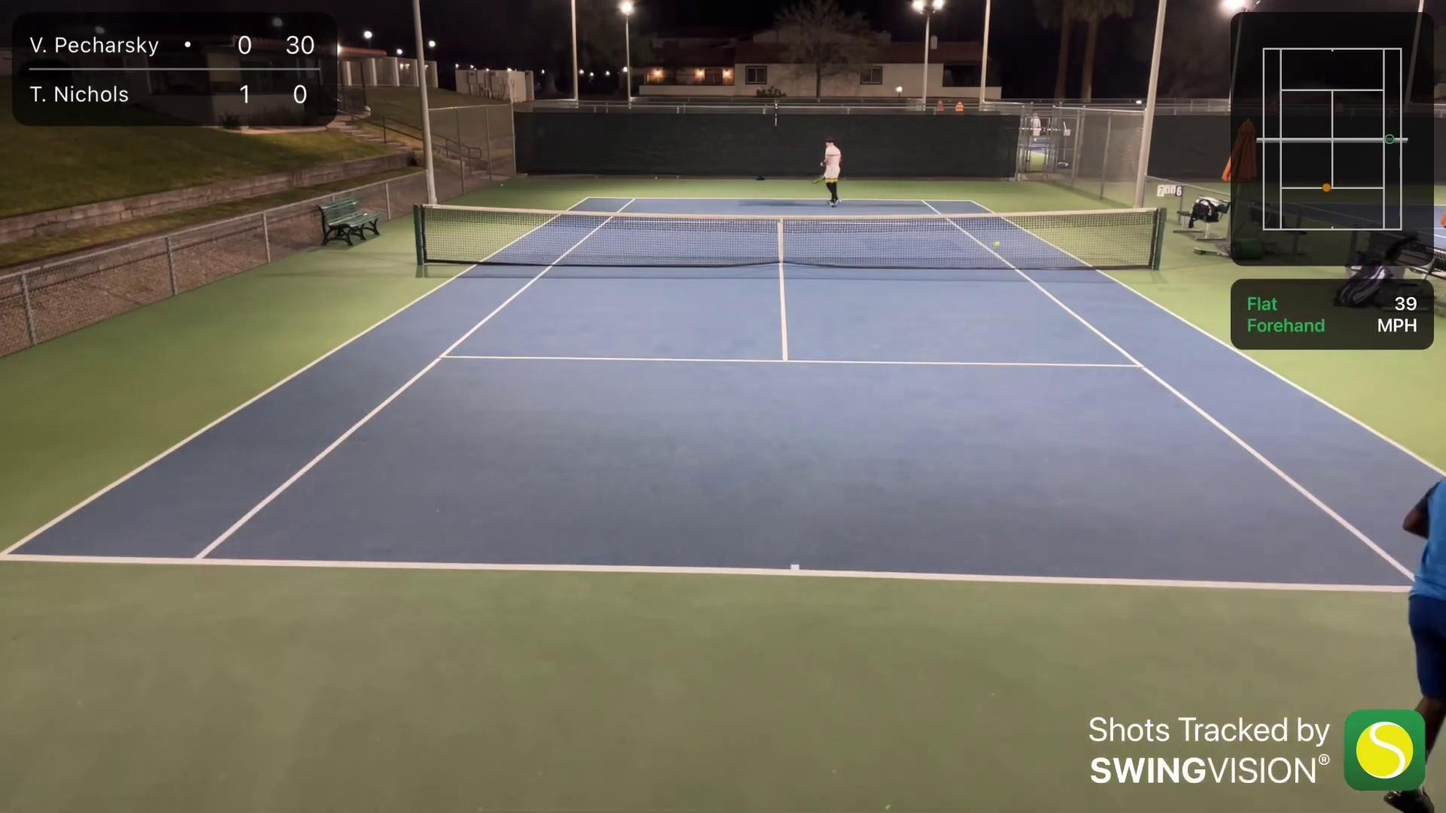ball: (987, 235, 1007, 252)
